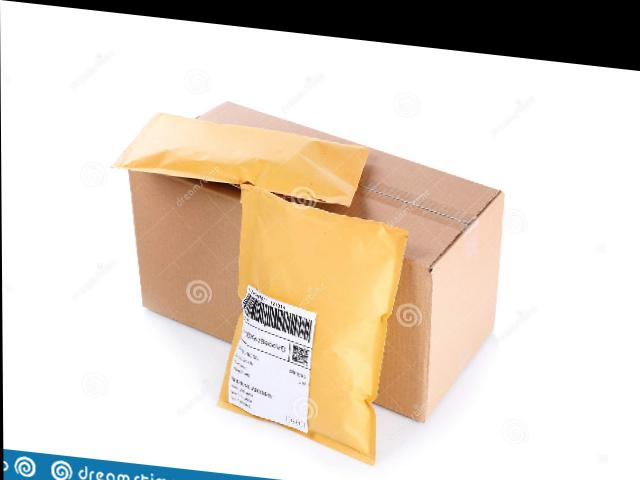label: (226, 286, 316, 434)
package: (129, 102, 503, 424), (217, 186, 407, 467), (114, 112, 370, 206)
